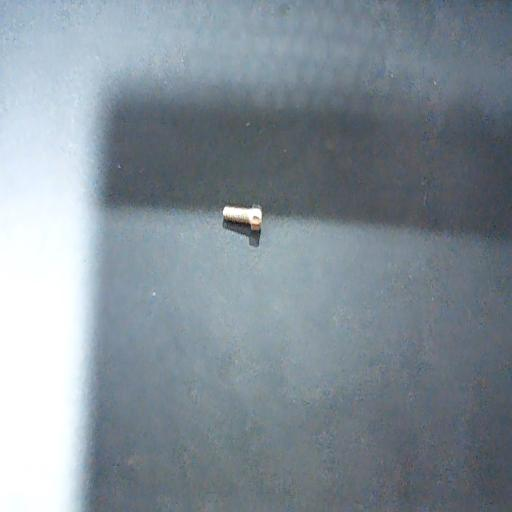screw: (222, 204, 262, 231)
